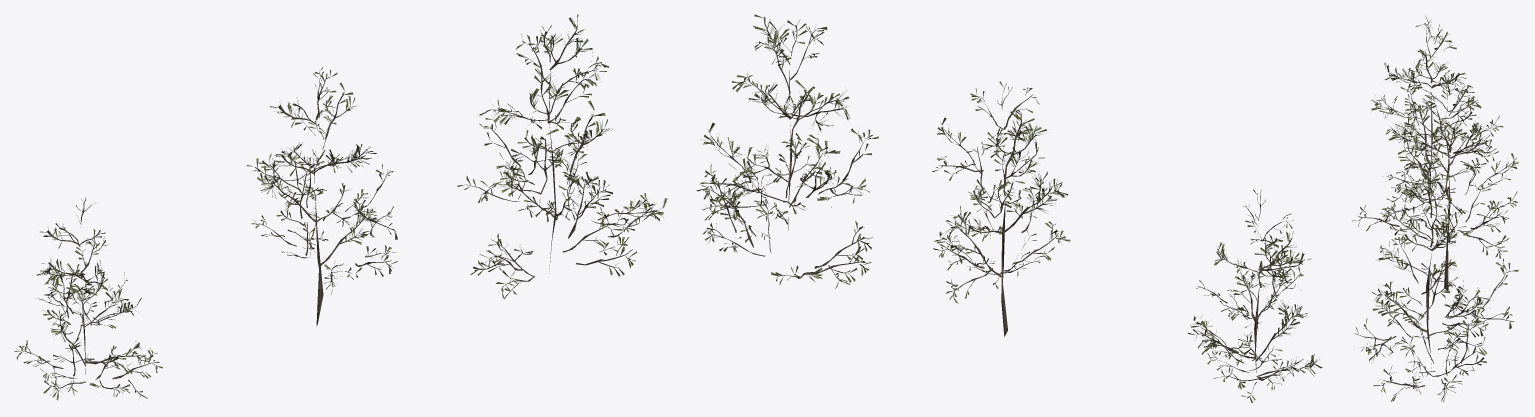
The model's file is pine_sapling_small.glb.
The picture shows the model from 3 angles, left to right: view 1: azimuth 30°, elevation 25°; view 2: azimuth 150°, elevation 25°; view 3: azimuth 270°, elevation 25°; orthographic projection. The views are drawn at different scales.
Visible parts, largest first — view 1: pine_sapling_small_a, pine_sapling_small_b, pine_sapling_small_c; view 2: pine_sapling_small_a, pine_sapling_small_b, pine_sapling_small_c; view 3: pine_sapling_small_a, pine_sapling_small_b, pine_sapling_small_c.
Boxes of the visible parts, x1=… form: pine_sapling_small_a: x1=457, y1=14, x2=667, y2=299; pine_sapling_small_b: x1=246, y1=67, x2=397, y2=326; pine_sapling_small_c: x1=14, y1=197, x2=162, y2=400; pine_sapling_small_a: x1=696, y1=14, x2=878, y2=288; pine_sapling_small_b: x1=932, y1=81, x2=1070, y2=336; pine_sapling_small_c: x1=1188, y1=189, x2=1322, y2=402; pine_sapling_small_a: x1=1354, y1=158, x2=1518, y2=402; pine_sapling_small_b: x1=1352, y1=70, x2=1518, y2=290; pine_sapling_small_c: x1=1370, y1=15, x2=1503, y2=206.
Size of the model in its own units: 2.63 by 1.05 by 0.7165.
2 materials, 2 textured.
